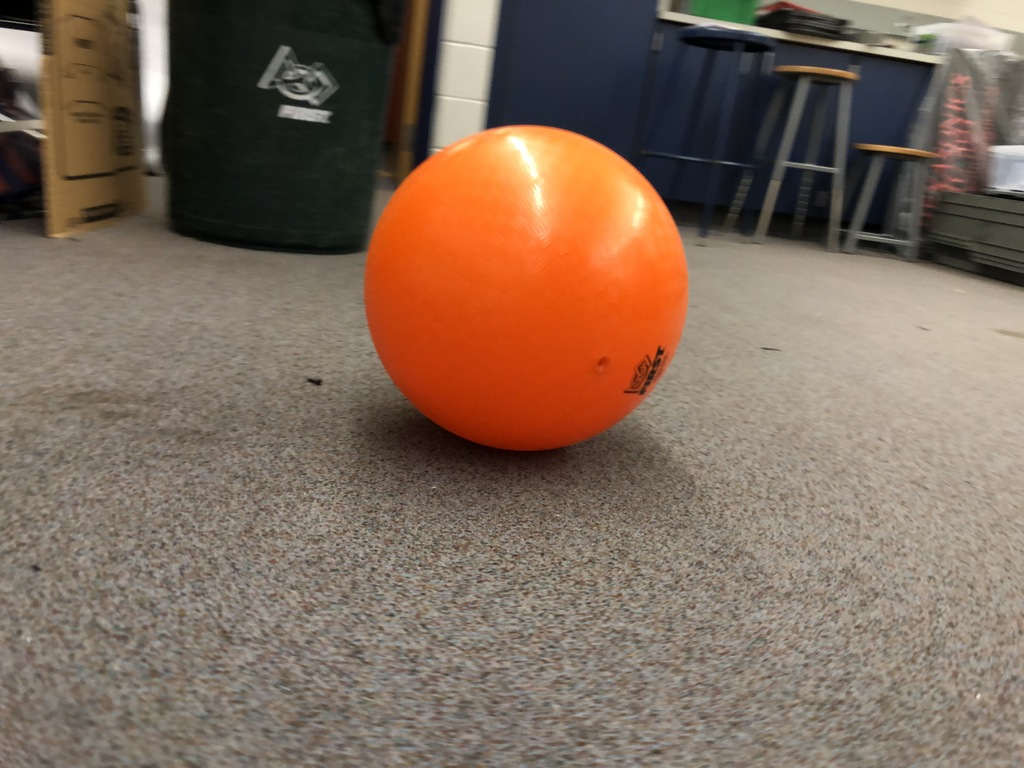cargo: (352, 113, 699, 470)
